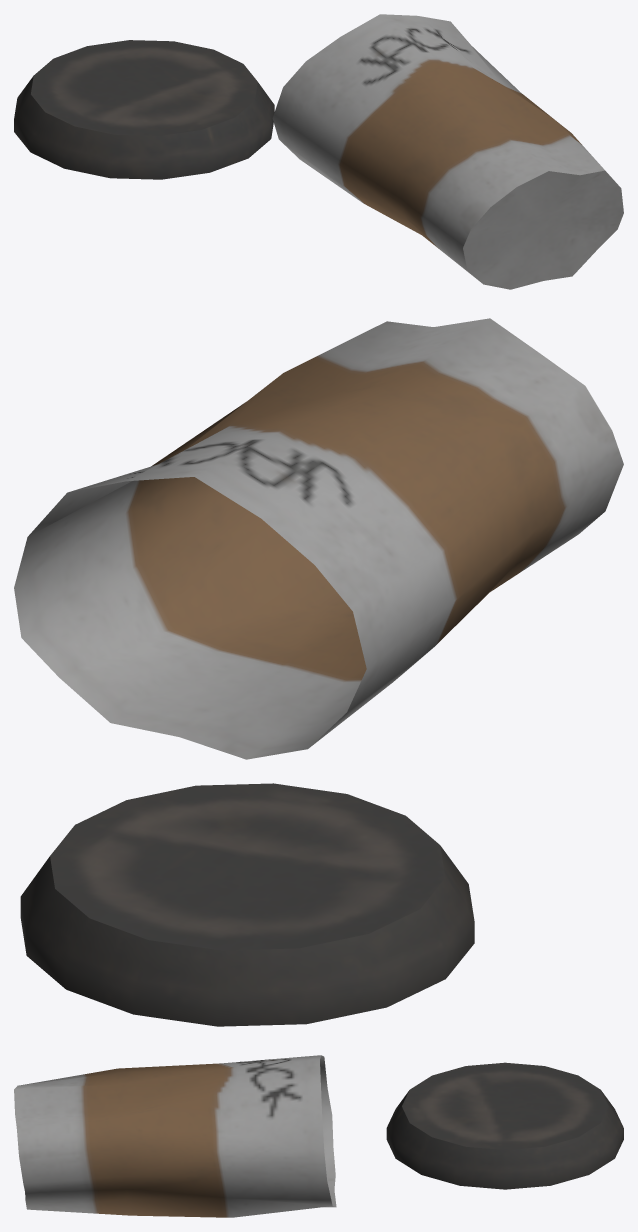
Rendered from SM_Small_Trash_Bottle_09.FBX.
3 renders of one model, top to bottom at view 1: azimuth 30°, elevation 25°; view 2: azimuth 150°, elevation 25°; view 3: azimuth 270°, elevation 25°, orthographic. The views are drawn at different scales.
Visible parts, largest first — view 1: SM_Small_Trash_Bottle_09_LOD0; view 2: SM_Small_Trash_Bottle_09_LOD0; view 3: SM_Small_Trash_Bottle_09_LOD0.
Boxes of the visible parts, x1,y1,x2,y2 form: SM_Small_Trash_Bottle_09_LOD0: (14, 14, 623, 289); SM_Small_Trash_Bottle_09_LOD0: (14, 318, 623, 1026); SM_Small_Trash_Bottle_09_LOD0: (14, 1055, 623, 1217).
Size of what is drawn, in the model's own units: 9.77 by 16.49 by 4.23.
